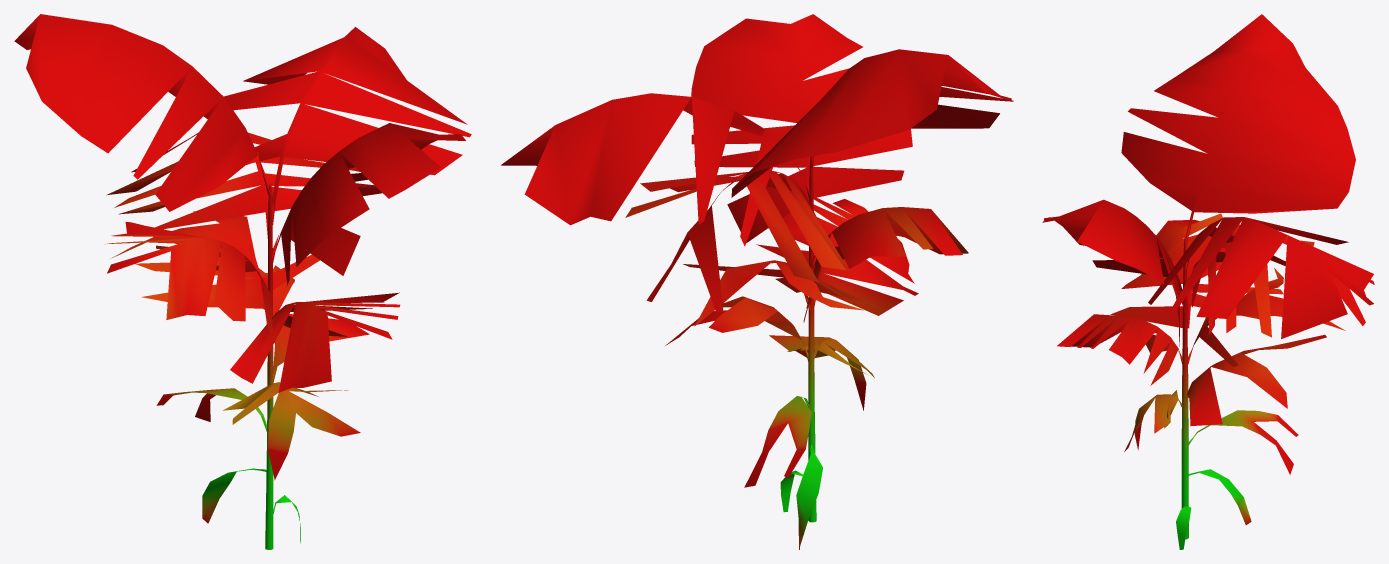
The model's file is Cane Palm_LOD0_Var2_siBmK.fbx.
The picture shows the model from 3 angles, left to right: view 1: azimuth 30°, elevation 25°; view 2: azimuth 150°, elevation 25°; view 3: azimuth 270°, elevation 25°; orthographic projection. The views are drawn at different scales.
Visible parts, largest first — view 1: _26eb_Var2_LOD0; view 2: _26eb_Var2_LOD0; view 3: _26eb_Var2_LOD0.
Part boxes in pixels (x1,y1,x2,y2): _26eb_Var2_LOD0: (14,14,471,549); _26eb_Var2_LOD0: (501,14,1013,549); _26eb_Var2_LOD0: (1042,14,1374,549).
Bounding box in the file's own units: 29.54 × 36.21 × 24.19.
